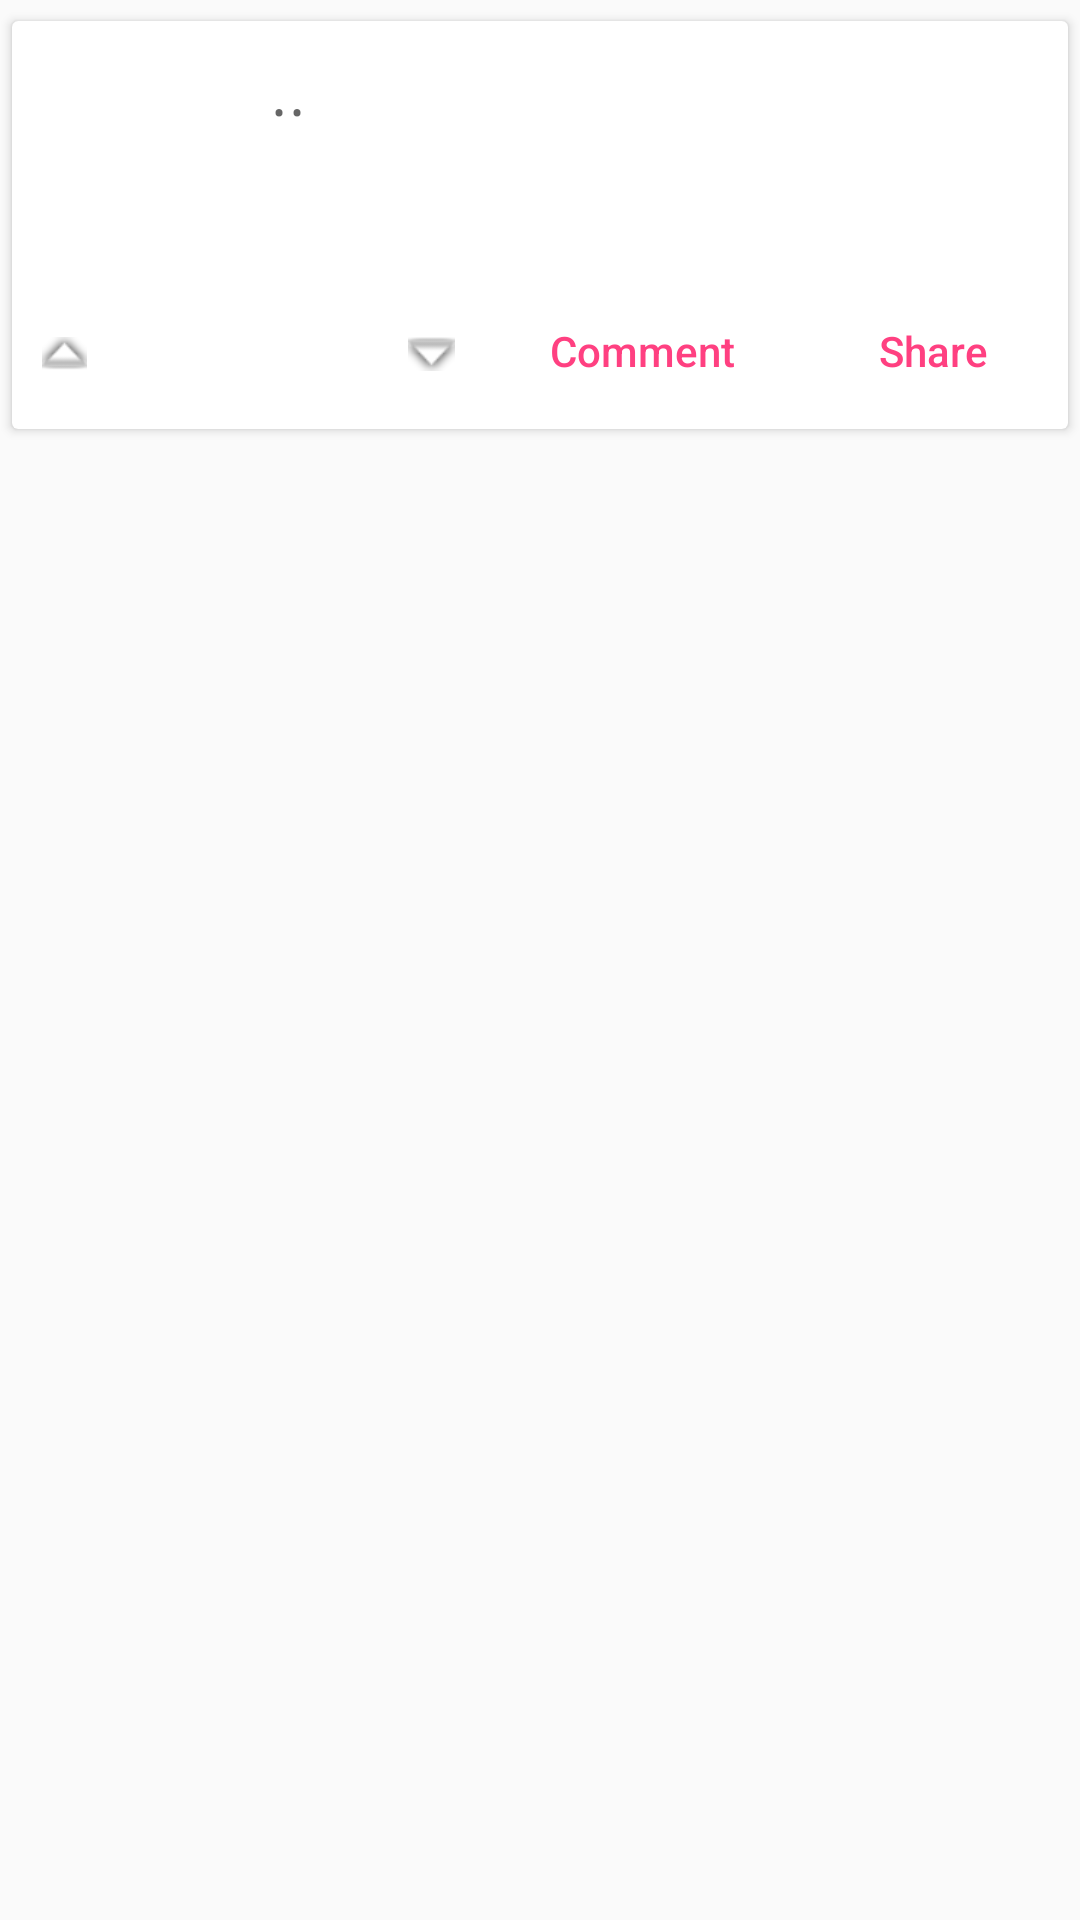

Named icons in this screenshot (1080 × 1920) and their centers, (x=x, y=y):
Downvote button: (x=431, y=354)
Upvote button: (x=64, y=353)
